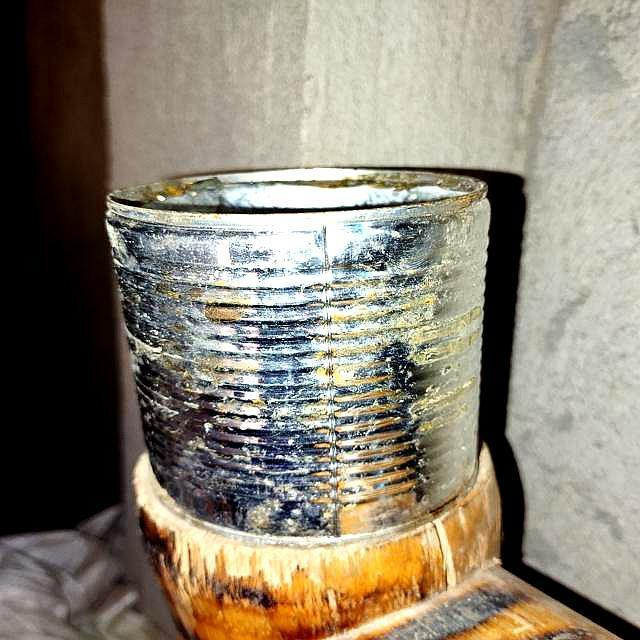Non-biodegradable: (97, 159, 493, 558)
